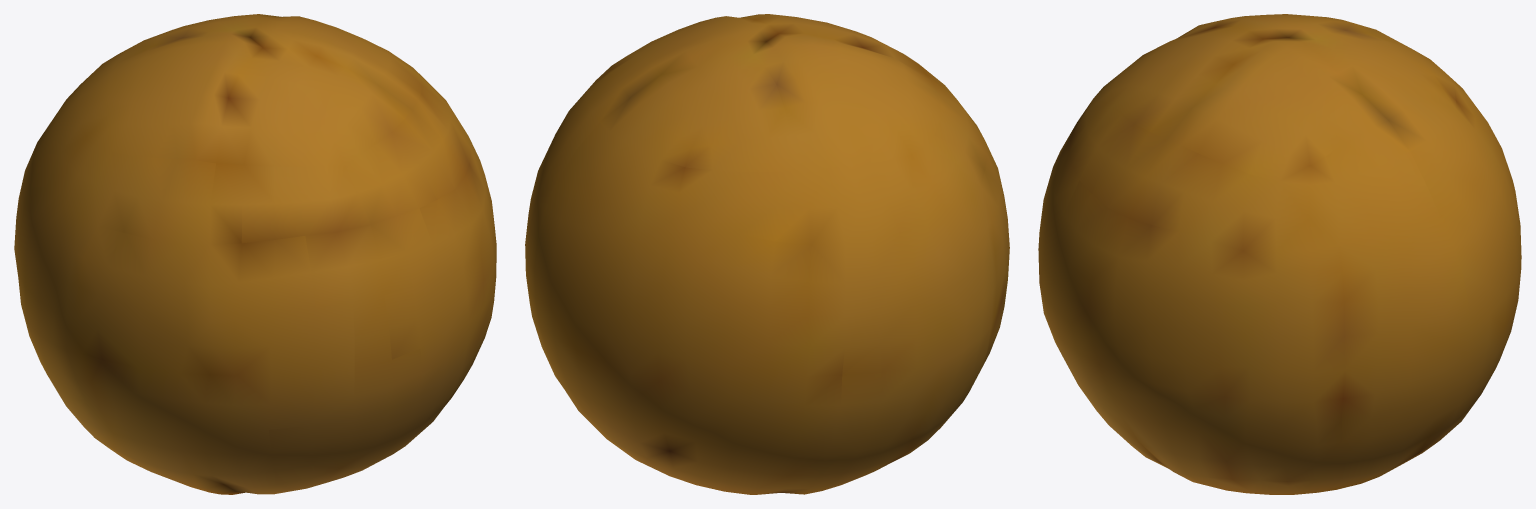
The model's file is 07-6493256-vertex.glb.
The picture shows the model from 3 angles, left to right: view 1: azimuth 30°, elevation 25°; view 2: azimuth 150°, elevation 25°; view 3: azimuth 270°, elevation 25°; orthographic projection.
Parts seen in each view (by area): view 1: Retopo_neural_node_afb0922a-1d4e-495e-8955-c2db04e38df9; view 2: Retopo_neural_node_afb0922a-1d4e-495e-8955-c2db04e38df9; view 3: Retopo_neural_node_afb0922a-1d4e-495e-8955-c2db04e38df9.
Part boxes in pixels (x1,y1,x2,y2): Retopo_neural_node_afb0922a-1d4e-495e-8955-c2db04e38df9: (14,14,496,494); Retopo_neural_node_afb0922a-1d4e-495e-8955-c2db04e38df9: (525,14,1009,494); Retopo_neural_node_afb0922a-1d4e-495e-8955-c2db04e38df9: (1038,14,1521,494).
Size of the model in its own units: 0.4852 by 0.4846 by 0.4851.
